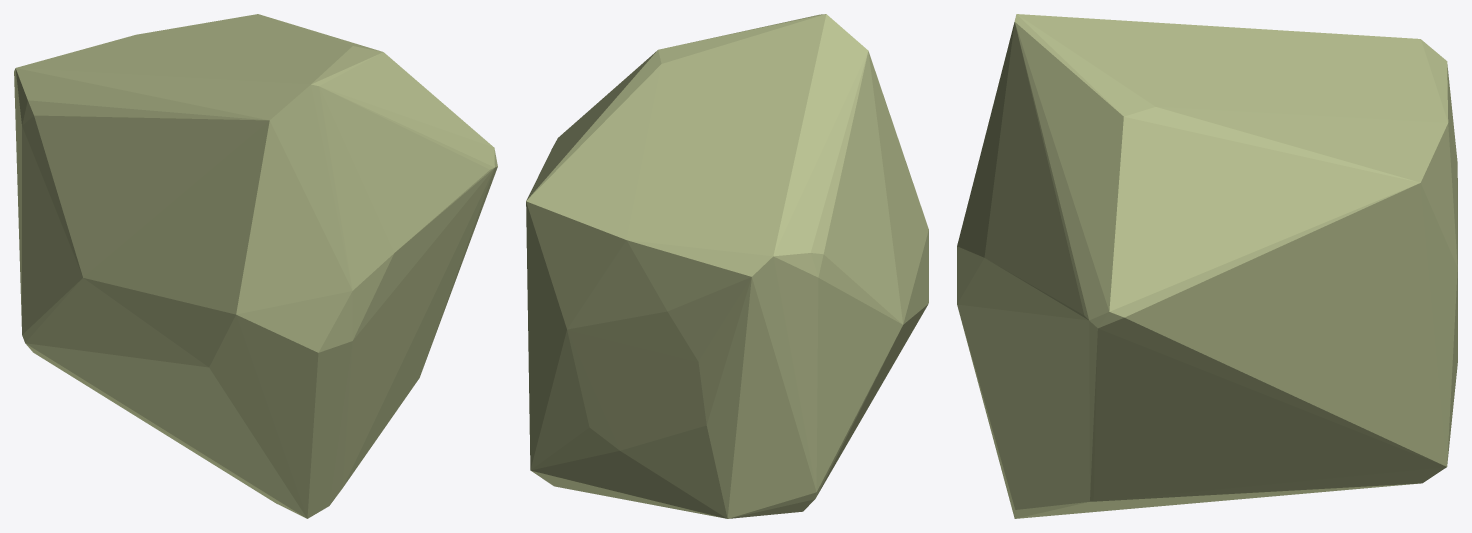
File: steeringSystem_power_steering_pump_d01.glb
The picture shows the model from 3 angles, left to right: view 1: azimuth 30°, elevation 25°; view 2: azimuth 150°, elevation 25°; view 3: azimuth 270°, elevation 25°; orthographic projection. The views are drawn at different scales.
Visible parts, largest first — view 1: geometry_0; view 2: geometry_0; view 3: geometry_0.
Part boxes in pixels (<box>): geometry_0: <box>14,14,497,518</box>; geometry_0: <box>526,14,928,518</box>; geometry_0: <box>957,14,1457,518</box>.
Size of the model in its own units: 0.4339 by 0.4789 by 0.4314.
